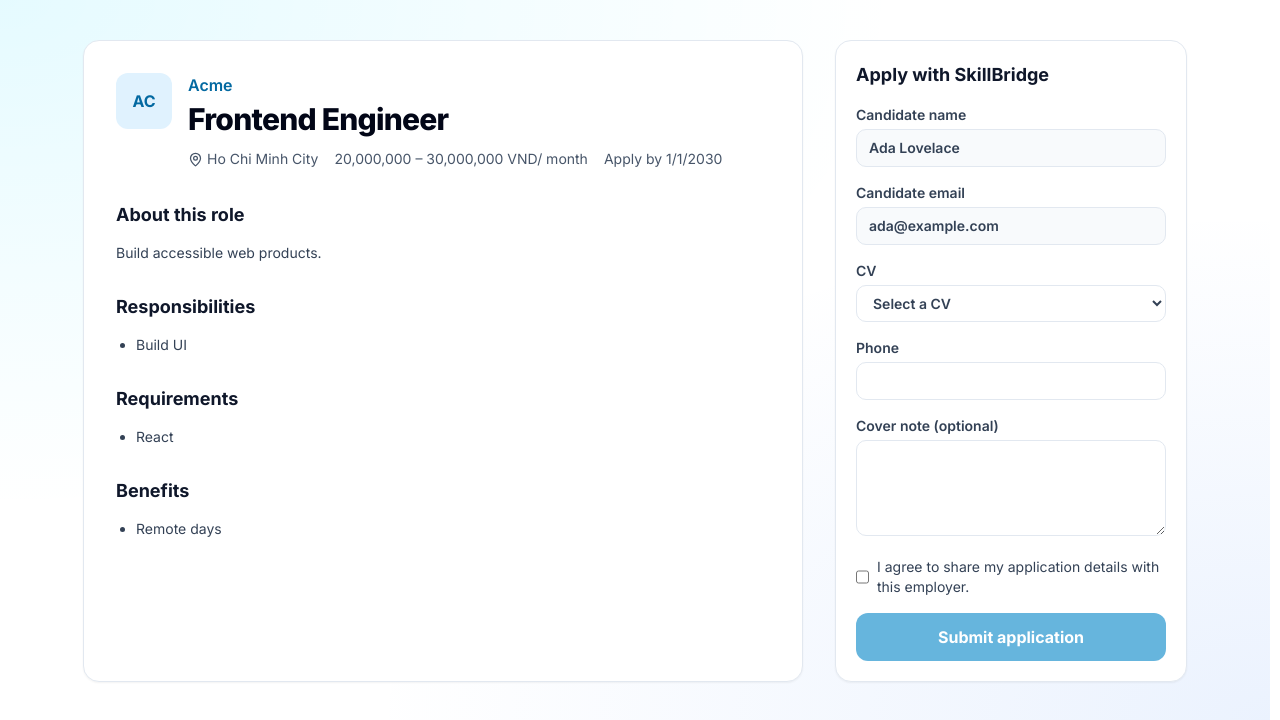
JobDetail › shows a useful duplicate-application result and prevents another submission
The width and height of the screenshot is (1280, 720).
Select "Frontend CV" in the dropdown labelled "CV": (1011, 304) left=856, top=285, right=1166, bottom=322
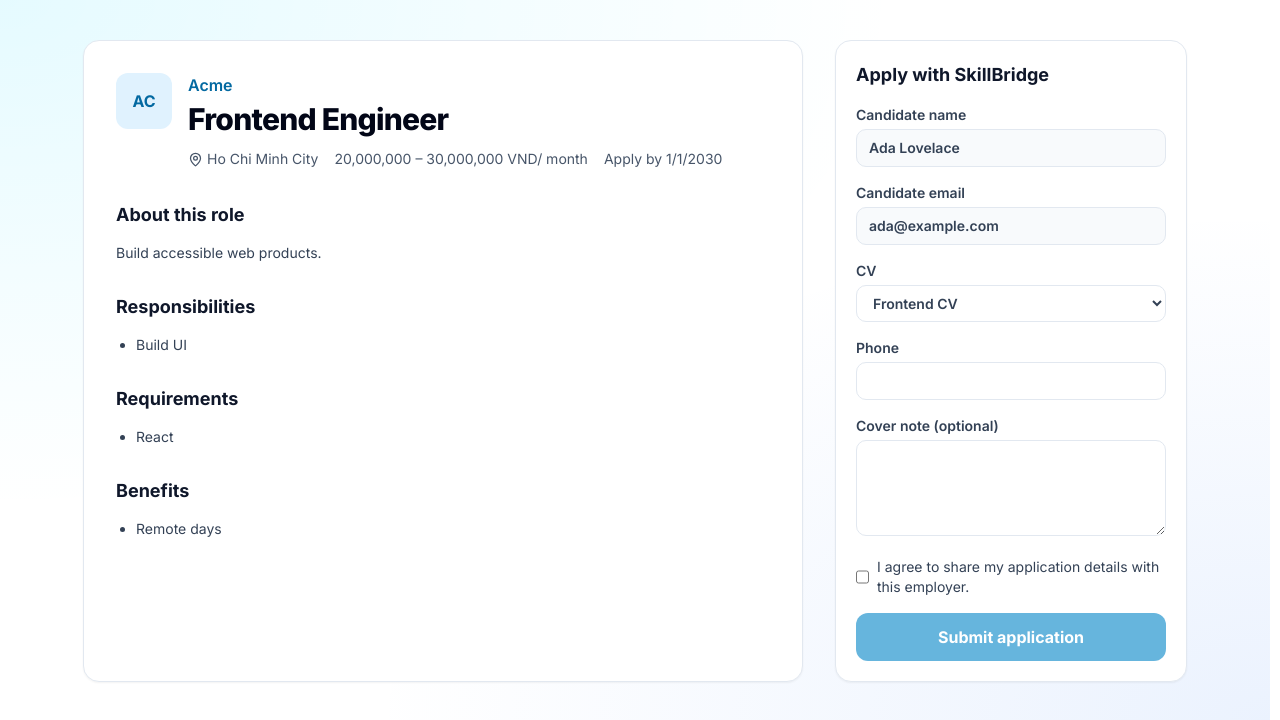
Click the checkbox labelled "I agree to share my application details with this employer.": (862, 577) left=856, top=557, right=869, bottom=597
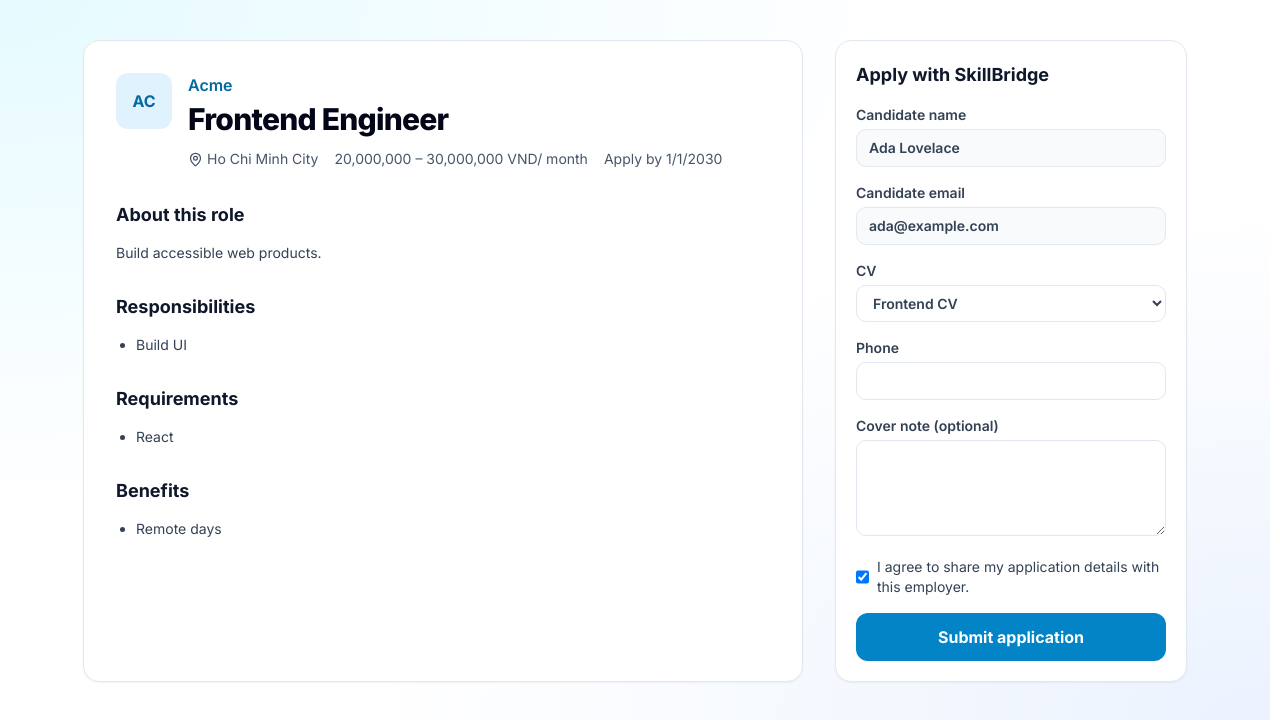
Click the button "Submit application": (1011, 637) left=856, top=613, right=1166, bottom=661
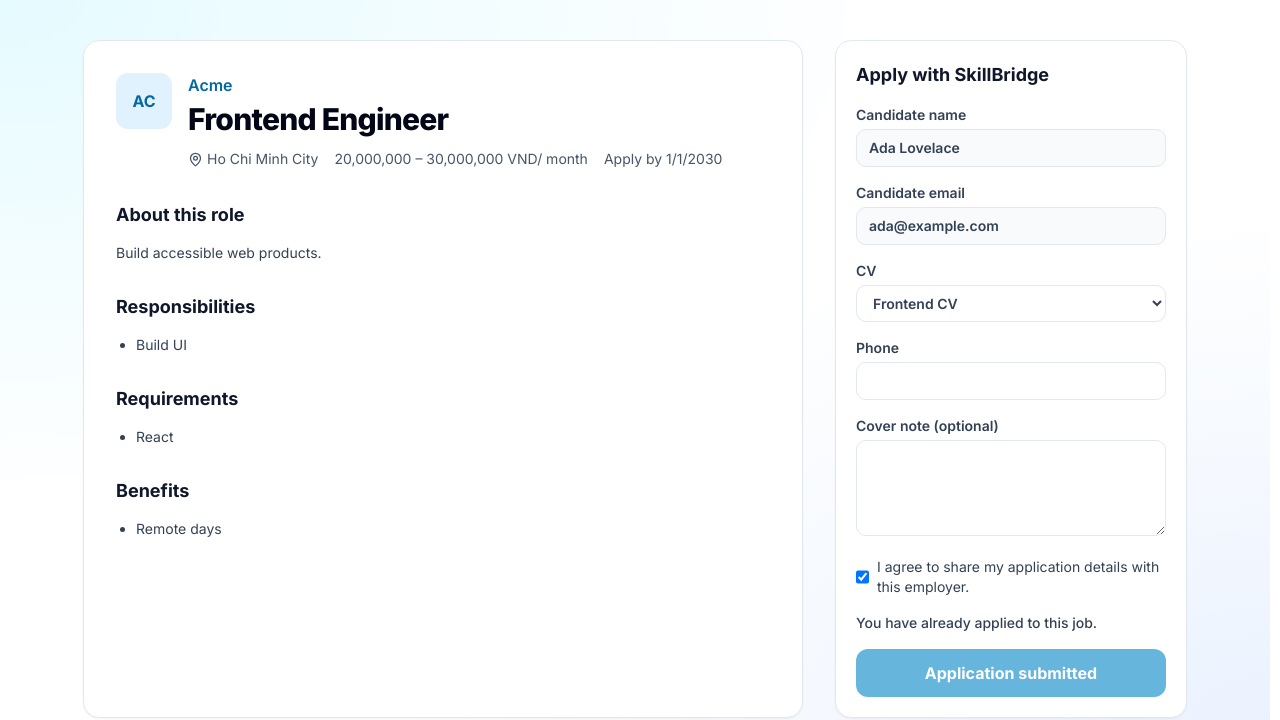
Expected: the text "You have already applied to this job." is shown, left=856, top=614, right=1097, bottom=631
Expected: the button "Application submitted" is shown, left=856, top=649, right=1166, bottom=697
